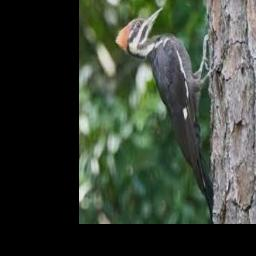Woodpecker: (114, 7, 215, 221)
